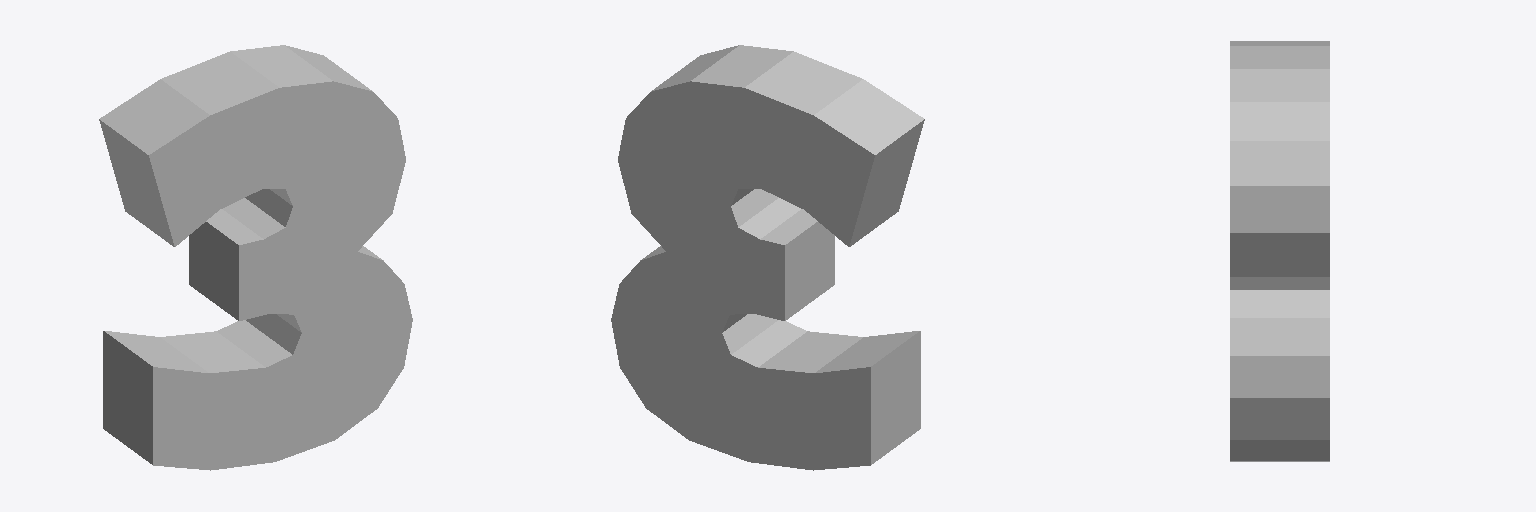
3 renders of one model, left to right at view 1: azimuth 30°, elevation 25°; view 2: azimuth 150°, elevation 25°; view 3: azimuth 270°, elevation 25°, orthographic.
Visible parts, largest first — view 1: text: ABCDEFGHIJKLMNOPQRSTUVWXYZ[number redacted]; view 2: text: ABCDEFGHIJKLMNOPQRSTUVWXYZ[number redacted]; view 3: text: ABCDEFGHIJKLMNOPQRSTUVWXYZ[number redacted].
Part boxes in pixels (bbox=[...]): text: ABCDEFGHIJKLMNOPQRSTUVWXYZ[number redacted]: bbox=[99, 45, 412, 470]; text: ABCDEFGHIJKLMNOPQRSTUVWXYZ[number redacted]: bbox=[611, 45, 924, 470]; text: ABCDEFGHIJKLMNOPQRSTUVWXYZ[number redacted]: bbox=[1230, 41, 1329, 461].
Bounding box in the file's own units: 76.74 × 104 × 25.